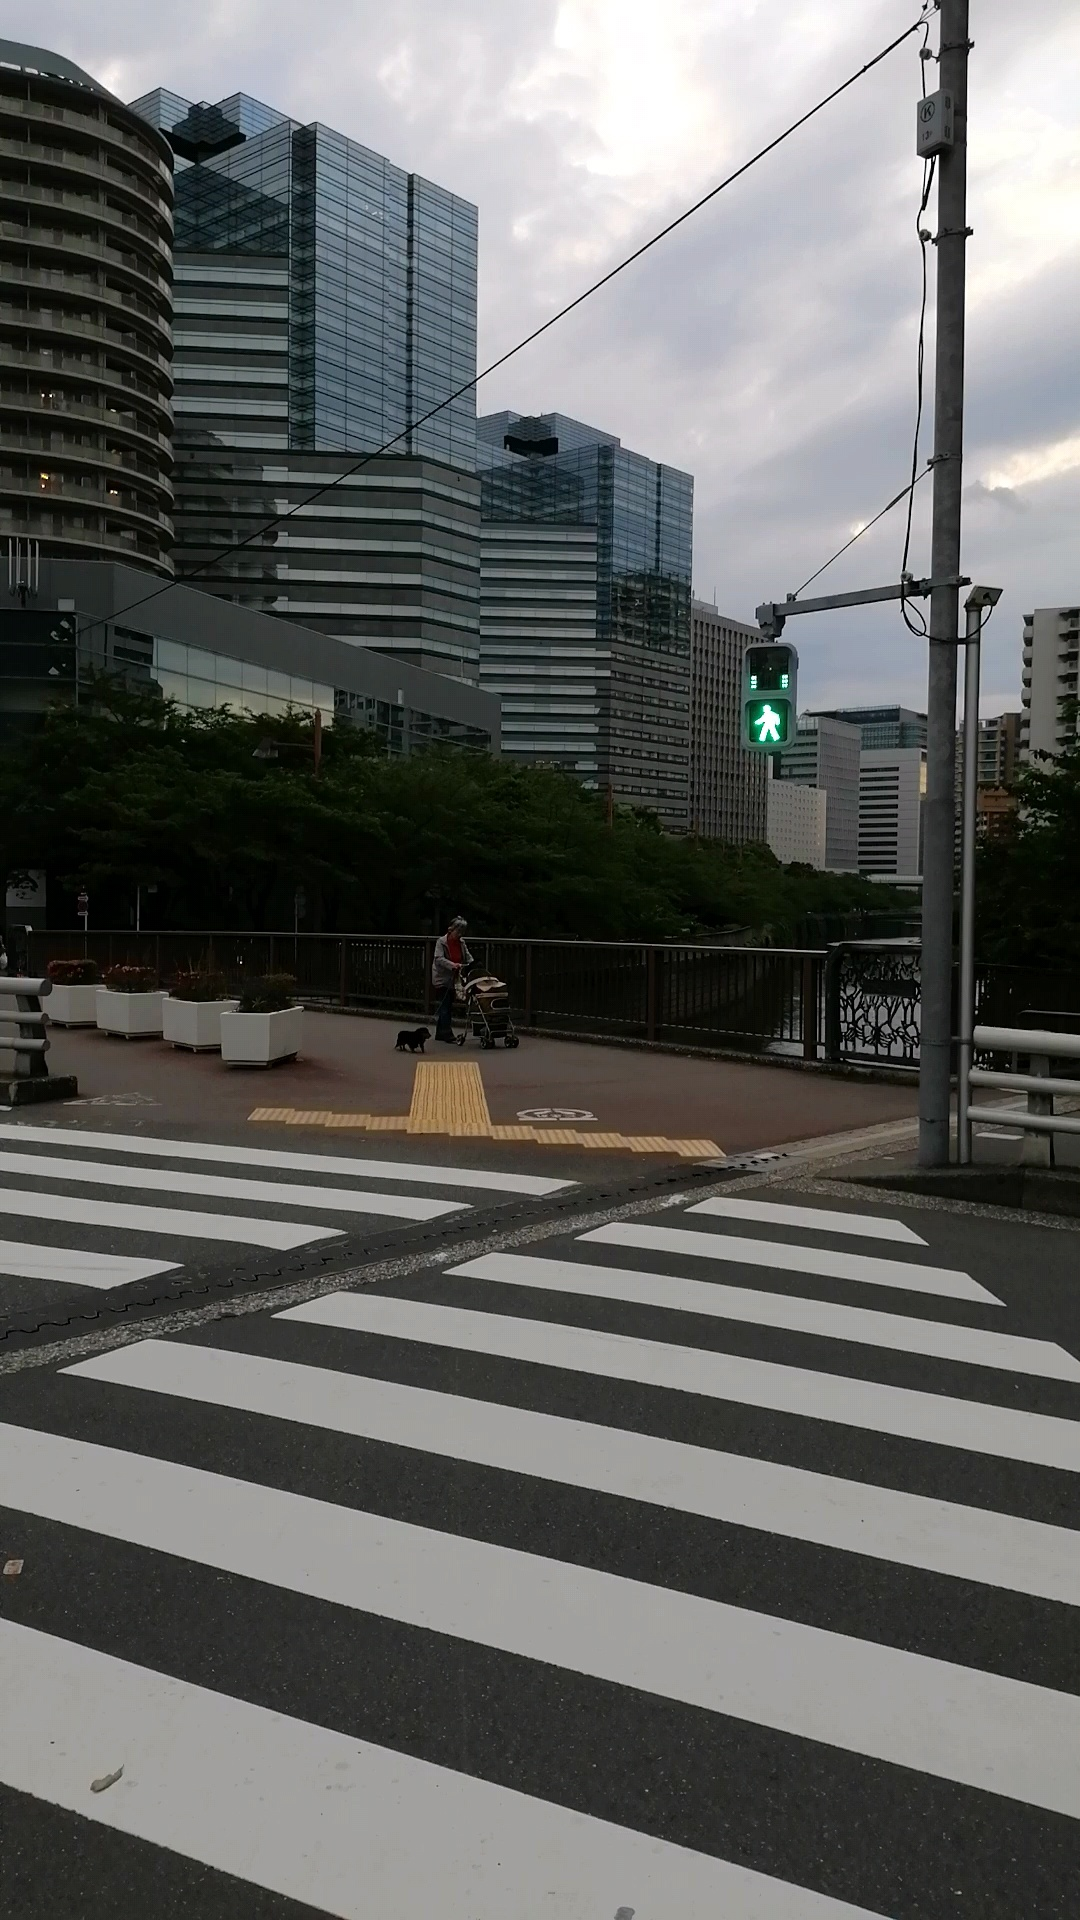green: (740, 641, 796, 750)
